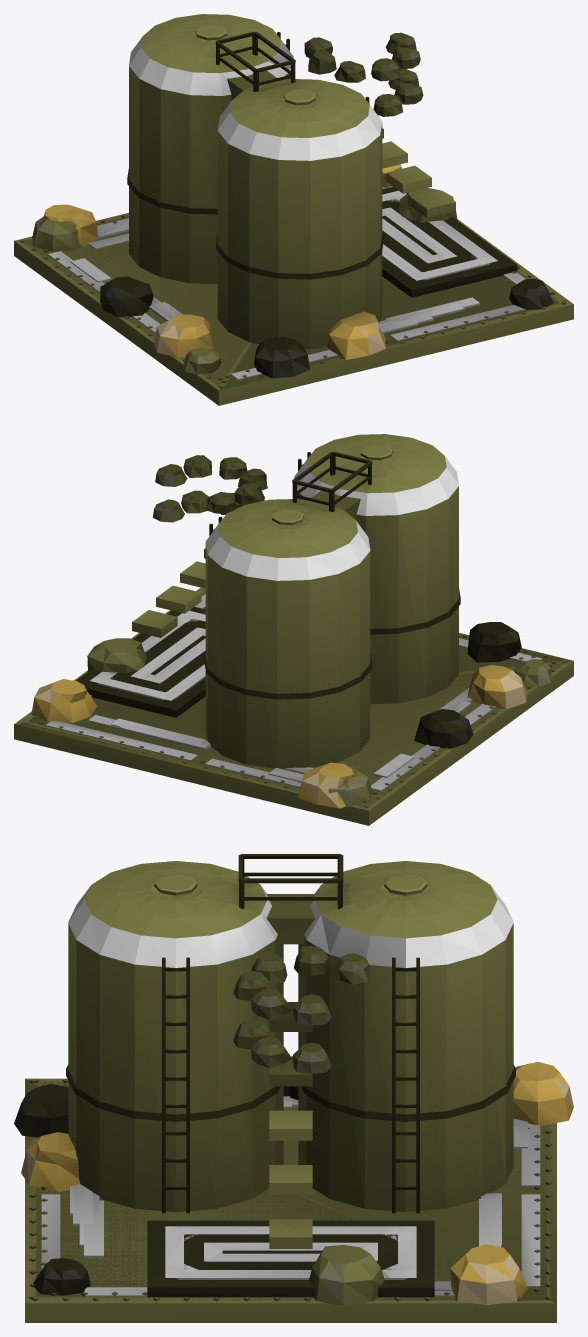
The model's file is meridian_ore_silo_damaged.glb.
3 renders of one model, top to bottom at view 1: azimuth 30°, elevation 25°; view 2: azimuth 150°, elevation 25°; view 3: azimuth 270°, elevation 25°, orthographic. The views are drawn at different scales.
Visible parts, largest first — view 1: body (×3); view 2: body (×3); view 3: body (×3).
Part boxes in pixels (box(x1,y1,x2,y2)): body (×3): box(14, 14, 573, 405); body (×3): box(14, 434, 573, 825); body (×3): box(14, 854, 573, 1322).
Size of the model in its own units: 7.65 by 4.9 by 7.79.
